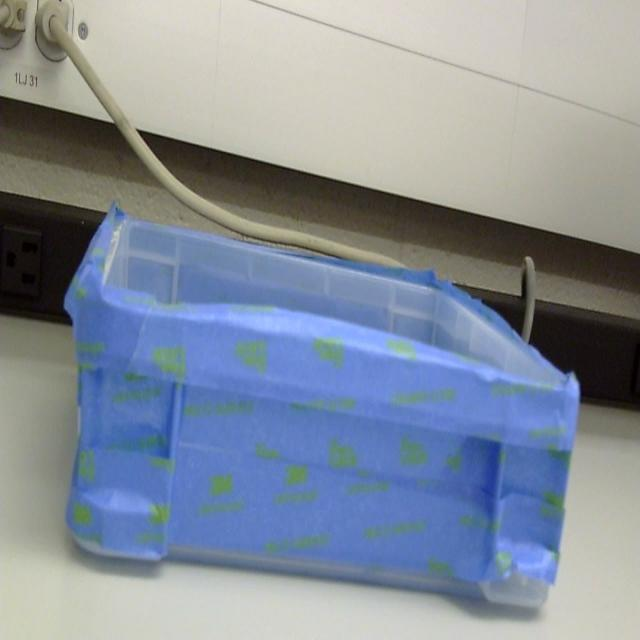bucket: (62, 201, 582, 614)
